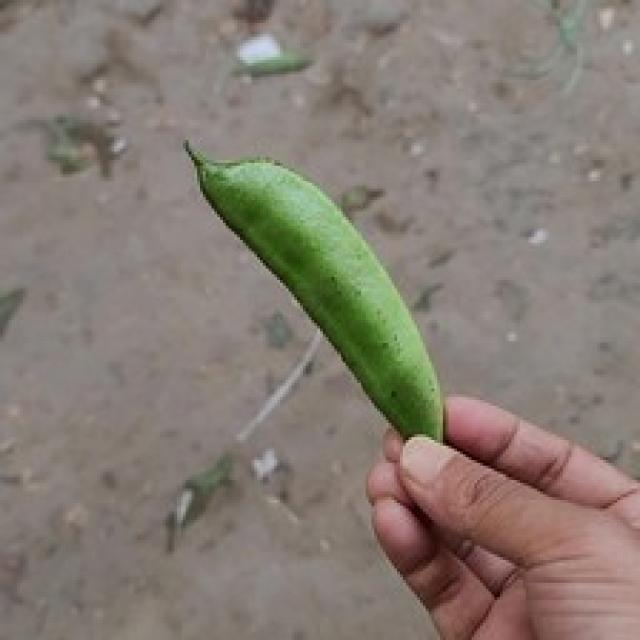Bean: (180, 137, 446, 443)
